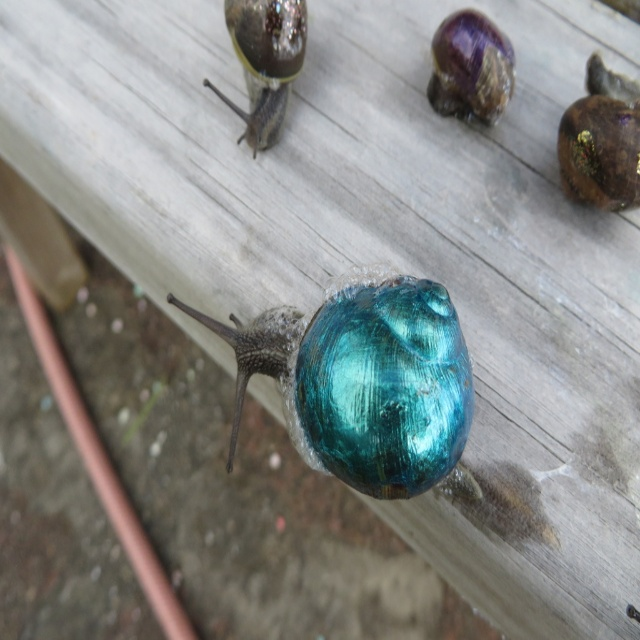Snail: (162, 273, 474, 502), (203, 0, 308, 161), (555, 54, 640, 221), (426, 9, 516, 133)
